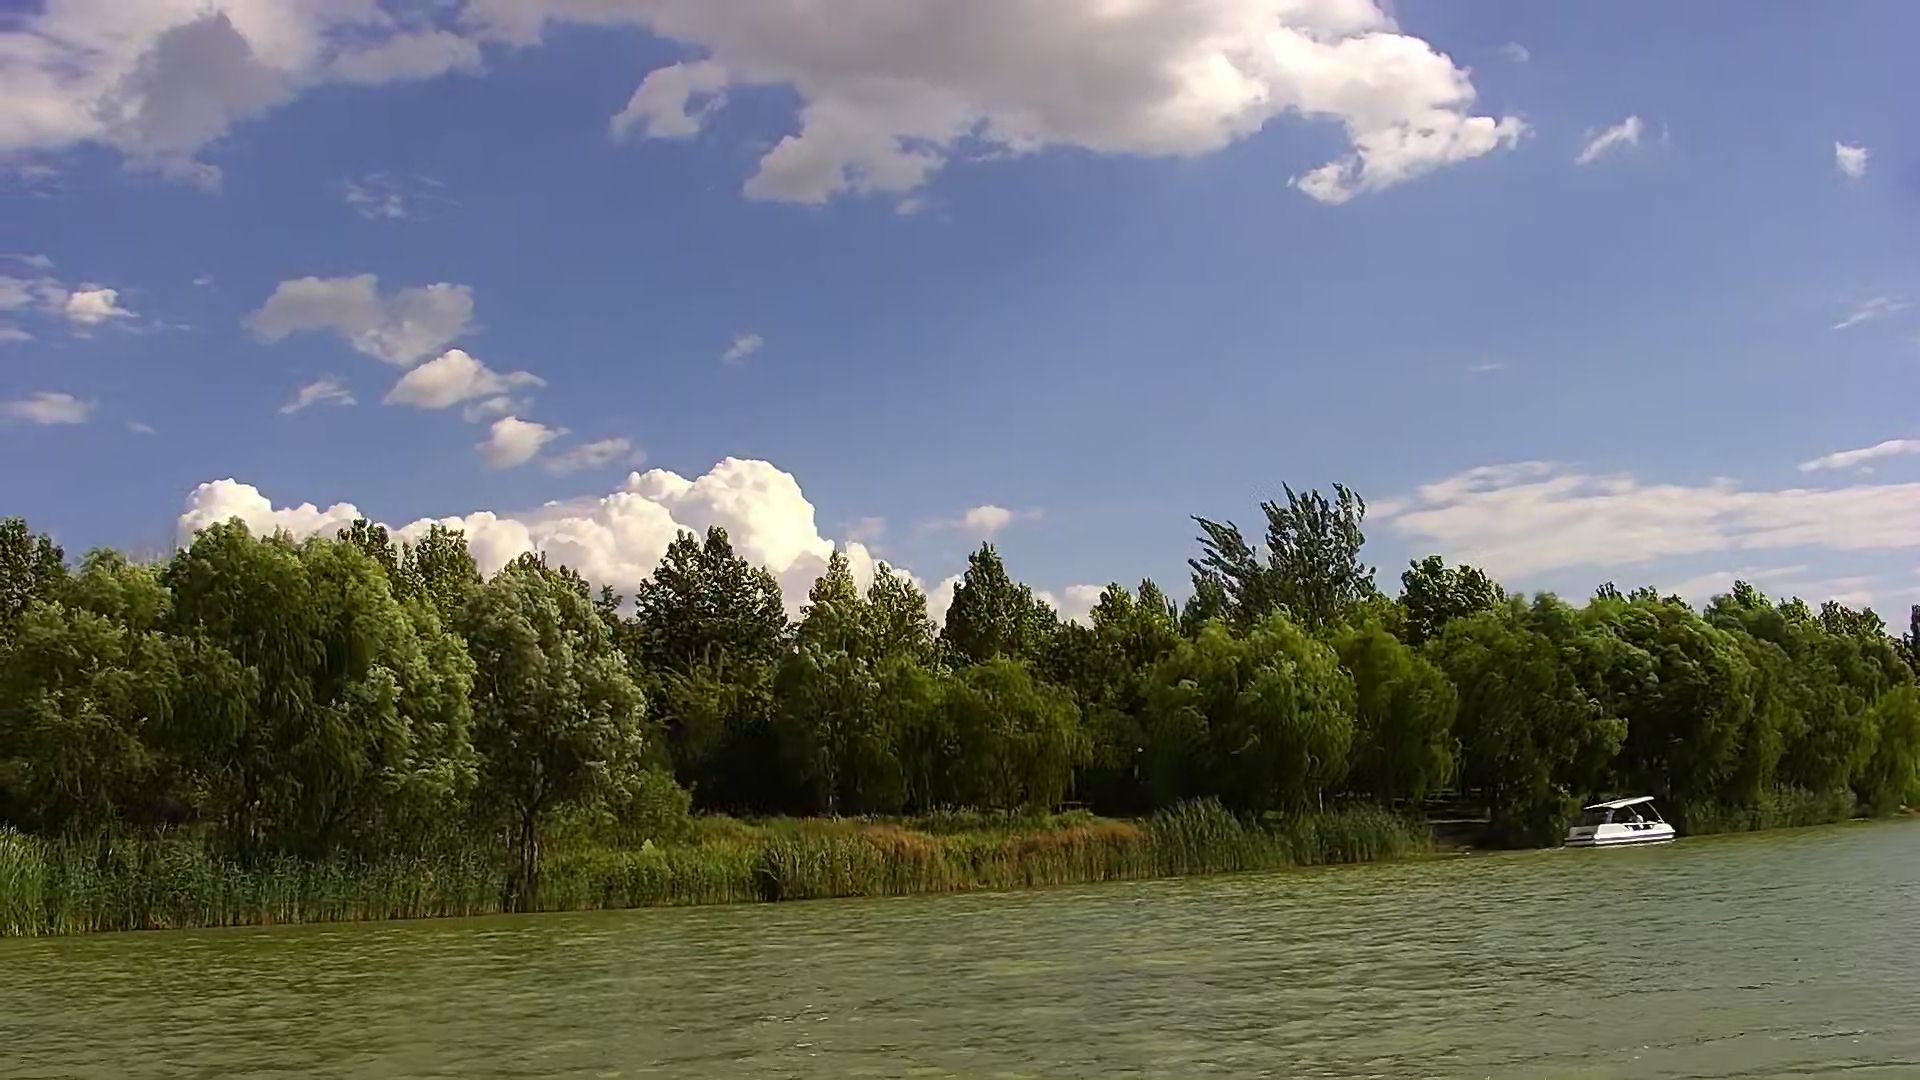boat: (1564, 794, 1677, 844)
